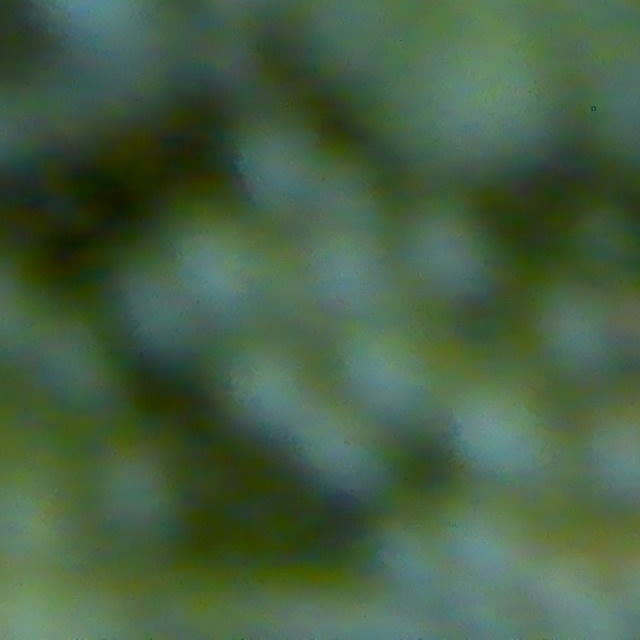SeaGrape: (443, 354, 571, 475), (69, 426, 187, 544), (210, 332, 323, 455), (166, 214, 282, 331), (398, 195, 504, 306), (336, 319, 443, 424), (526, 275, 626, 378), (301, 399, 388, 503), (568, 199, 640, 272), (28, 326, 93, 402)
